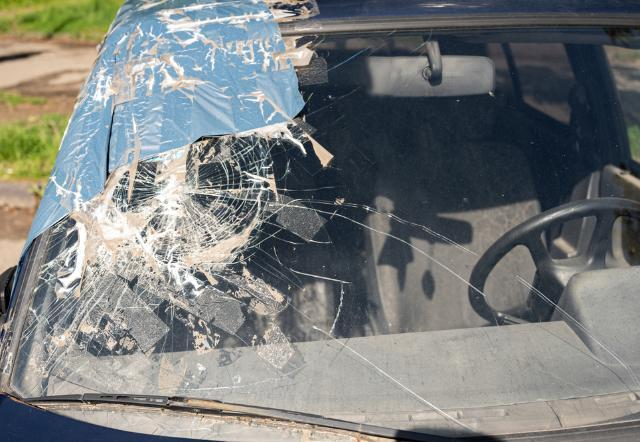Windshield: (71, 15, 609, 429)
